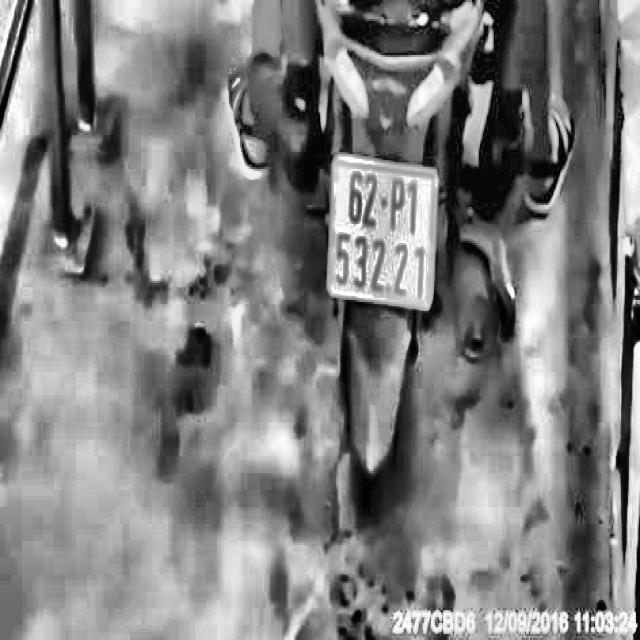plate: (324, 143, 442, 320)
